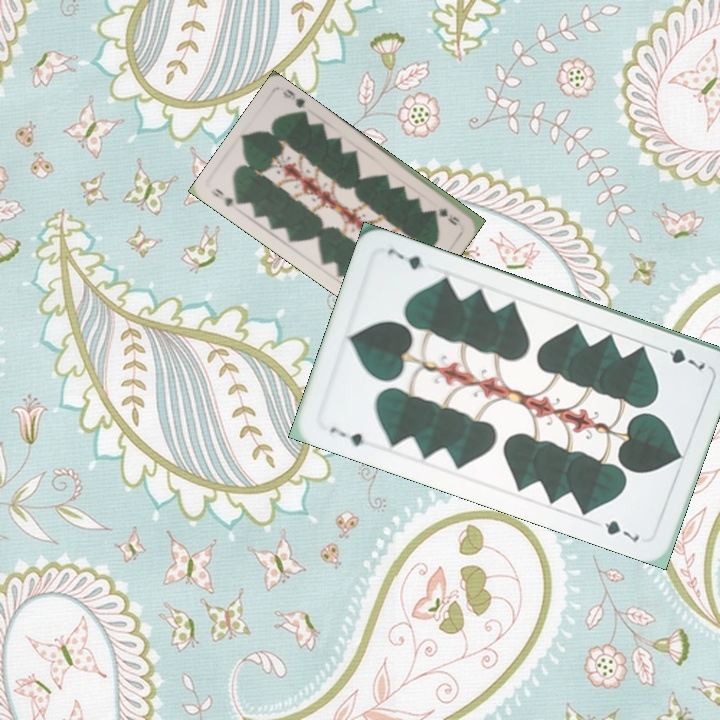G7: (652, 342, 708, 373), (325, 423, 367, 449)
G9: (207, 184, 245, 209), (435, 203, 462, 227)
